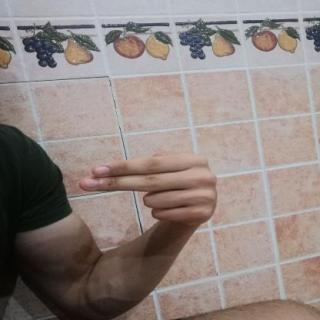AYN: (70, 144, 233, 236)
